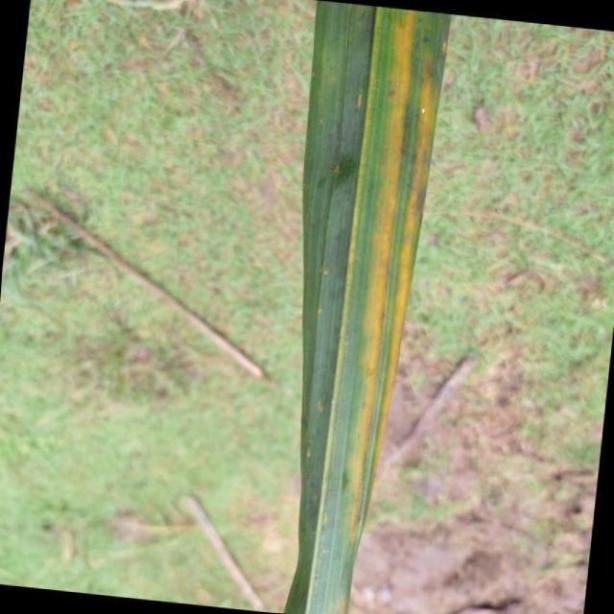Megnesium: (283, 0, 451, 614)
